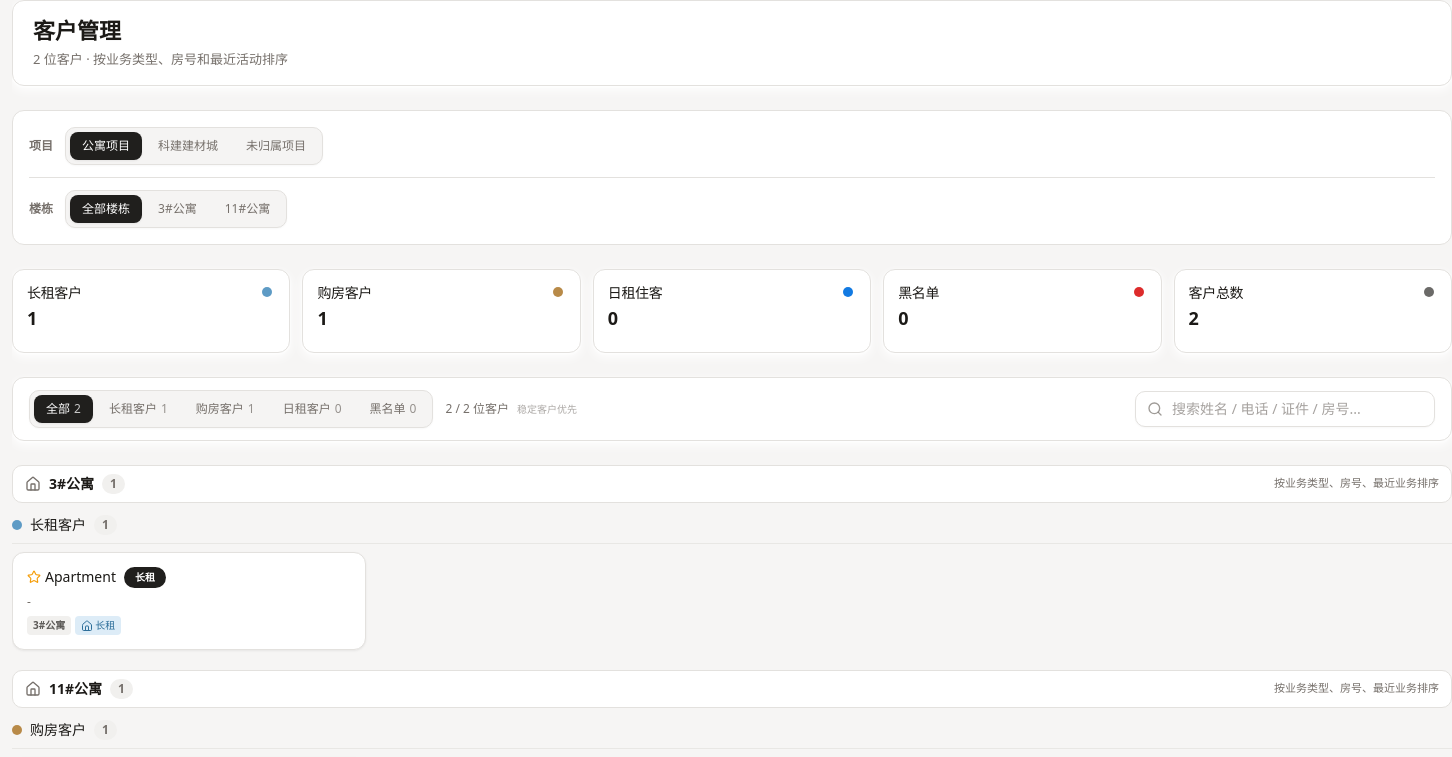
Test: keeps customers without a project accessible without guessing their scope
The image size is (1452, 757).
Click the button "未归属项目".
click(276, 146)  # box [234,132,318,160]
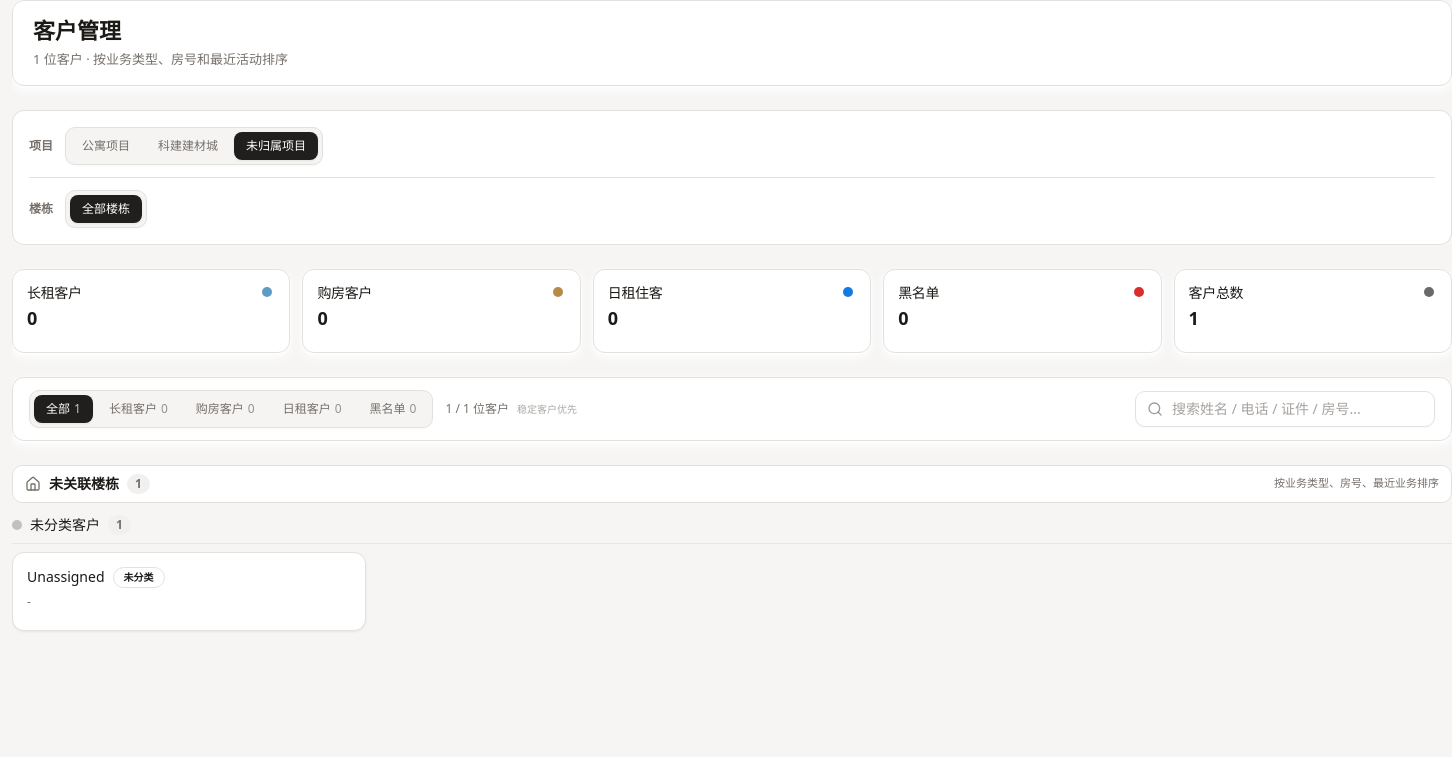
Expected: the text "Unassigned" is shown, [27,566,104,586]
Expected: the text "Apartment" is gone
Expected: the text "1 / 1 位客户" is shown, [446,400,509,416]
